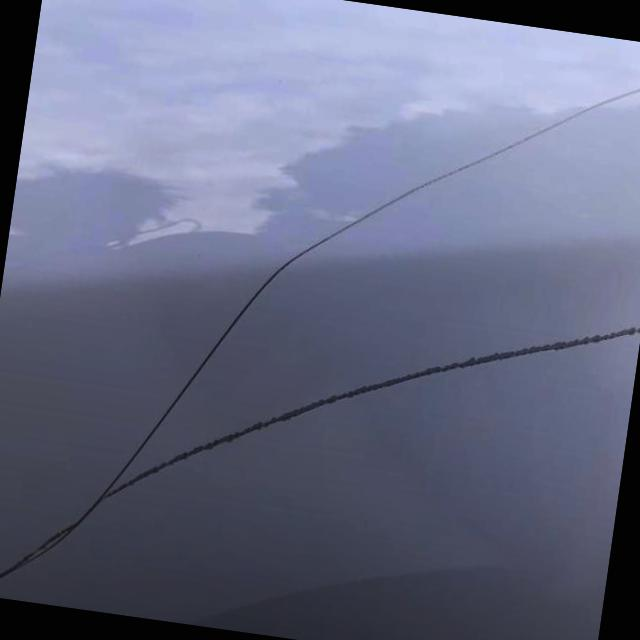crack: (219, 32, 624, 402), (168, 239, 640, 534)
